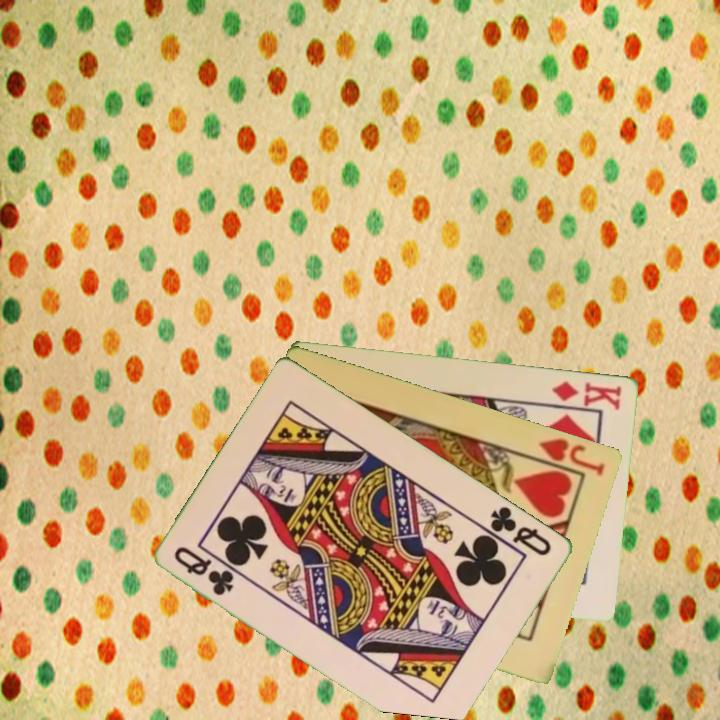Jh: (536, 434, 609, 478)
Kd: (549, 377, 625, 413)
Qc: (487, 502, 555, 559), (171, 542, 238, 599)
